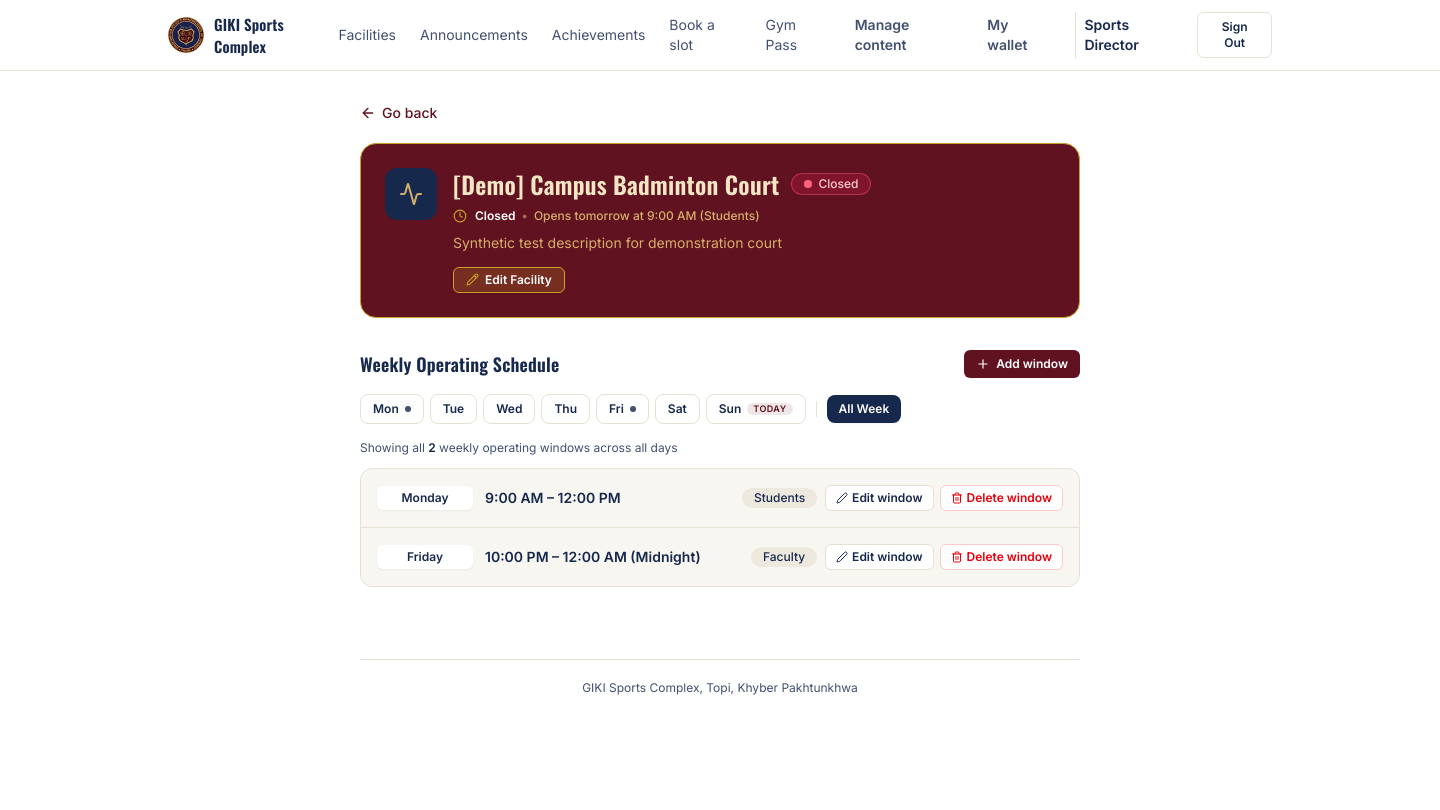
Test case: Facility Detail Page Component › Step 7E: Weekly Schedule Inline Editor › opens inline editor with prefilled values on clicking 'Edit window' and cancels cleanly without saving
# Click Edit window on Monday row
Click the button with aria-label "Edit Monday schedule window" at (879, 498), box [825, 485, 934, 511]
(page scrolled)
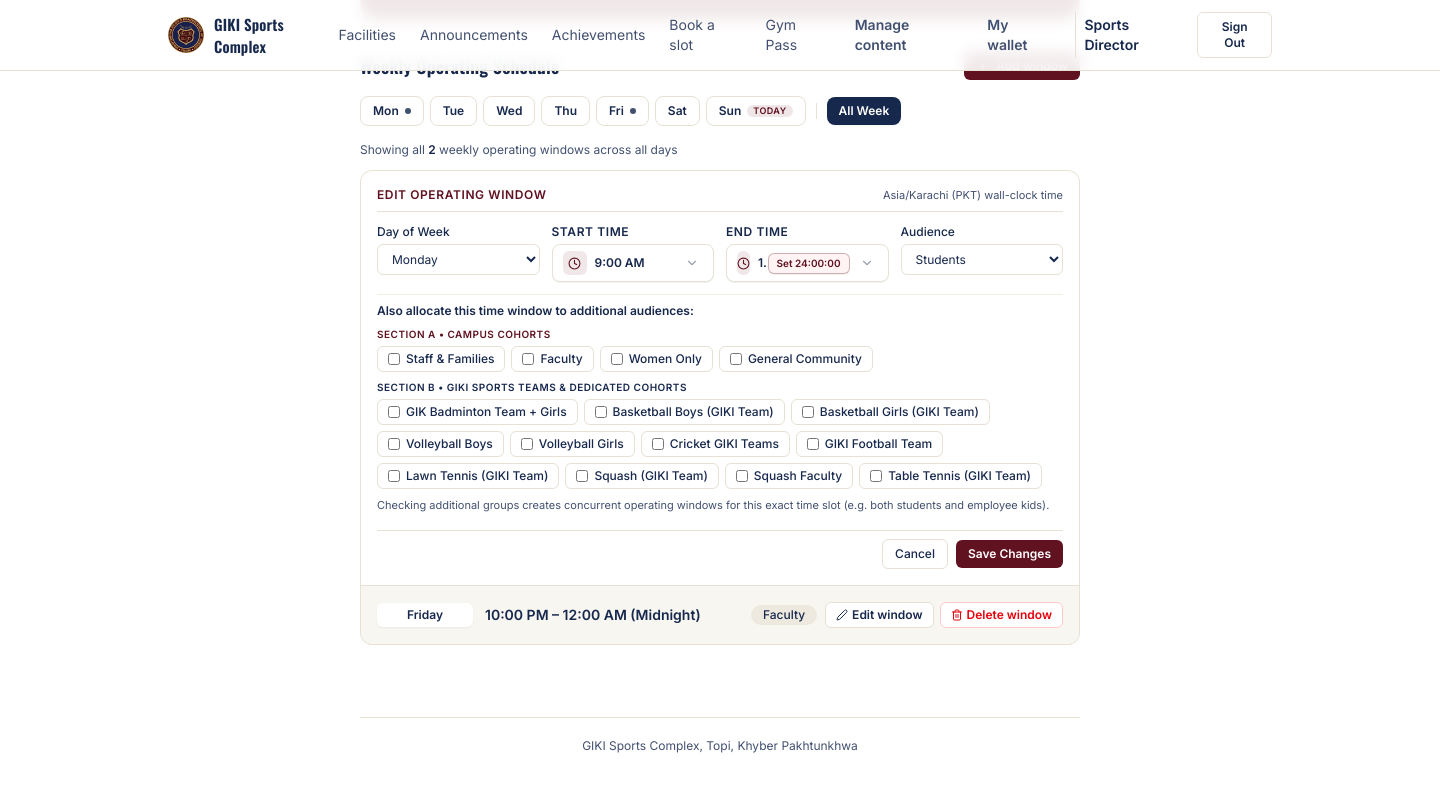
Expected: the form with test id "schedule-edit-form-sched-1" is shown, [377, 187, 1063, 569]
Expected: the dropdown labelled "Day of Week" shows "Monday", [377, 244, 540, 275]
Expected: the label labelled "Start Time" holds "09:00:00", [552, 224, 629, 239]
# Click Cancel
Click the button with aria-label "cancel editing" at (915, 554), box [882, 539, 948, 569]
(page scrolled)
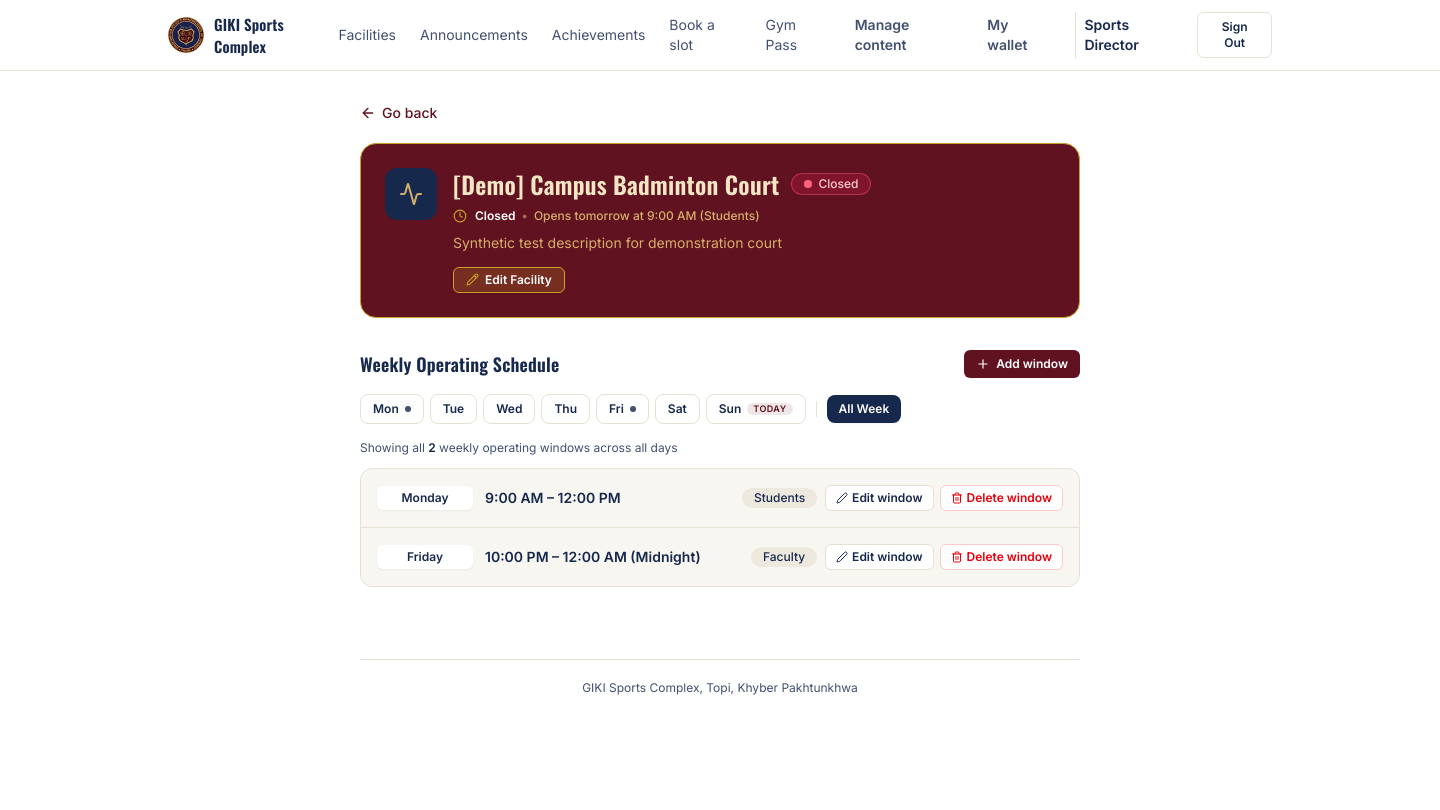
Expected: the form with test id "schedule-edit-form-sched-1" is gone
Expected: the text "Monday" is shown, [377, 486, 473, 510]
Expected: the text "9:00 AM – 12:00 PM" is shown, [485, 488, 621, 508]
